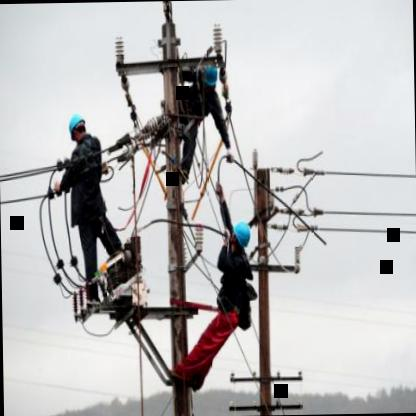helmet: (196, 56, 218, 90), (230, 218, 250, 249), (66, 110, 86, 140)
